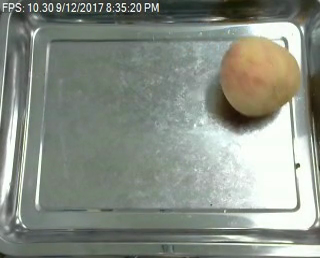Peach: (218, 35, 301, 117)
